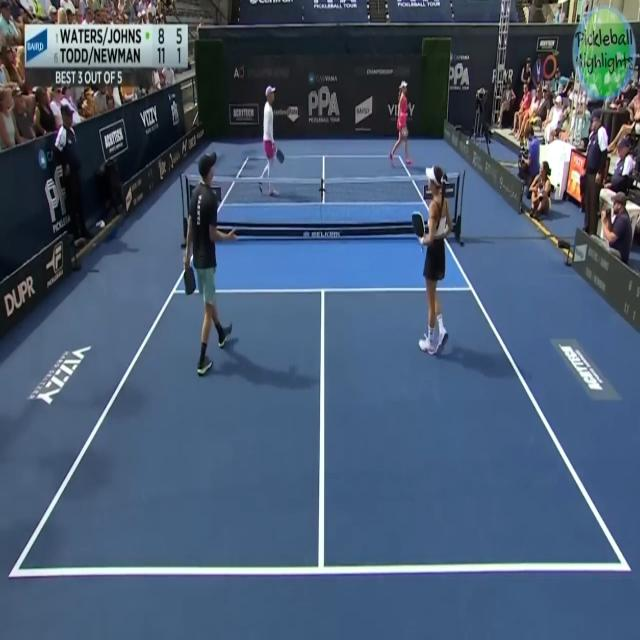Pickleball: (464, 135, 471, 146)
